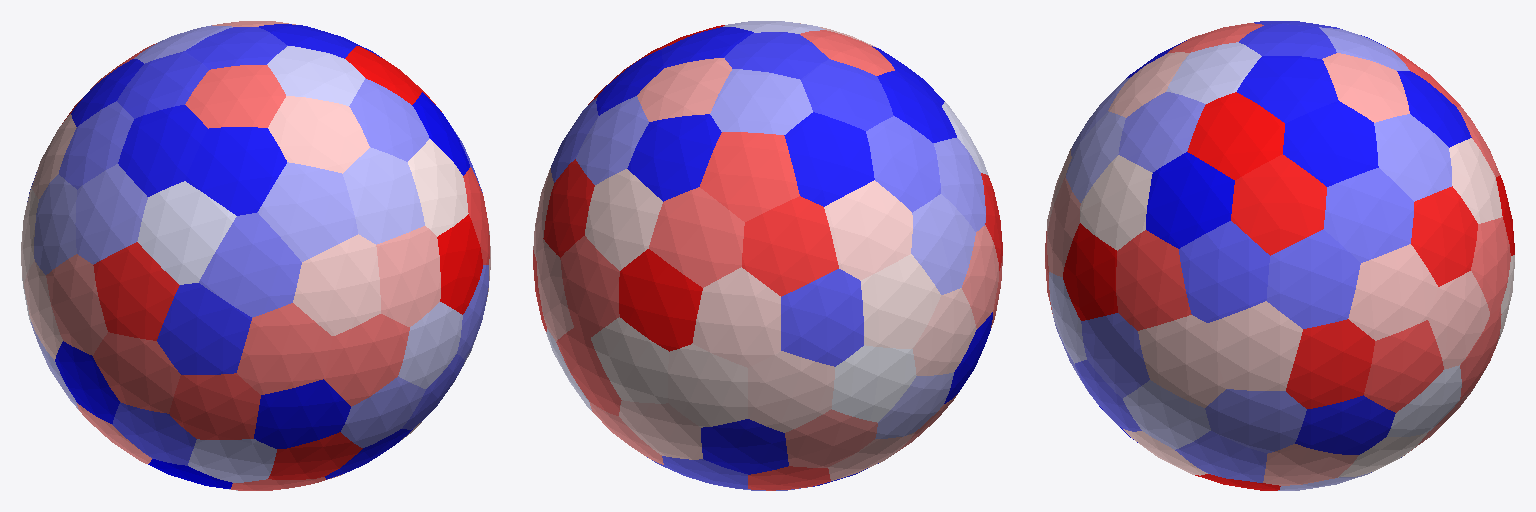
3 renders of one model, left to right at view 1: azimuth 30°, elevation 25°; view 2: azimuth 150°, elevation 25°; view 3: azimuth 270°, elevation 25°, orthographic.
Visible parts, largest first — view 1: 3D_Object; view 2: 3D_Object; view 3: 3D_Object.
Part boxes in pixels (bbox=[...]): 3D_Object: bbox=[21, 21, 490, 490]; 3D_Object: bbox=[533, 21, 1002, 490]; 3D_Object: bbox=[1045, 21, 1514, 490].
Size of the model in its own units: 2 by 2 by 2.
1 materials, 1 textured.